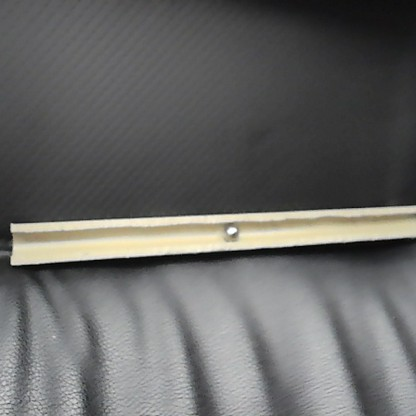ironball: (220, 220, 239, 241)
